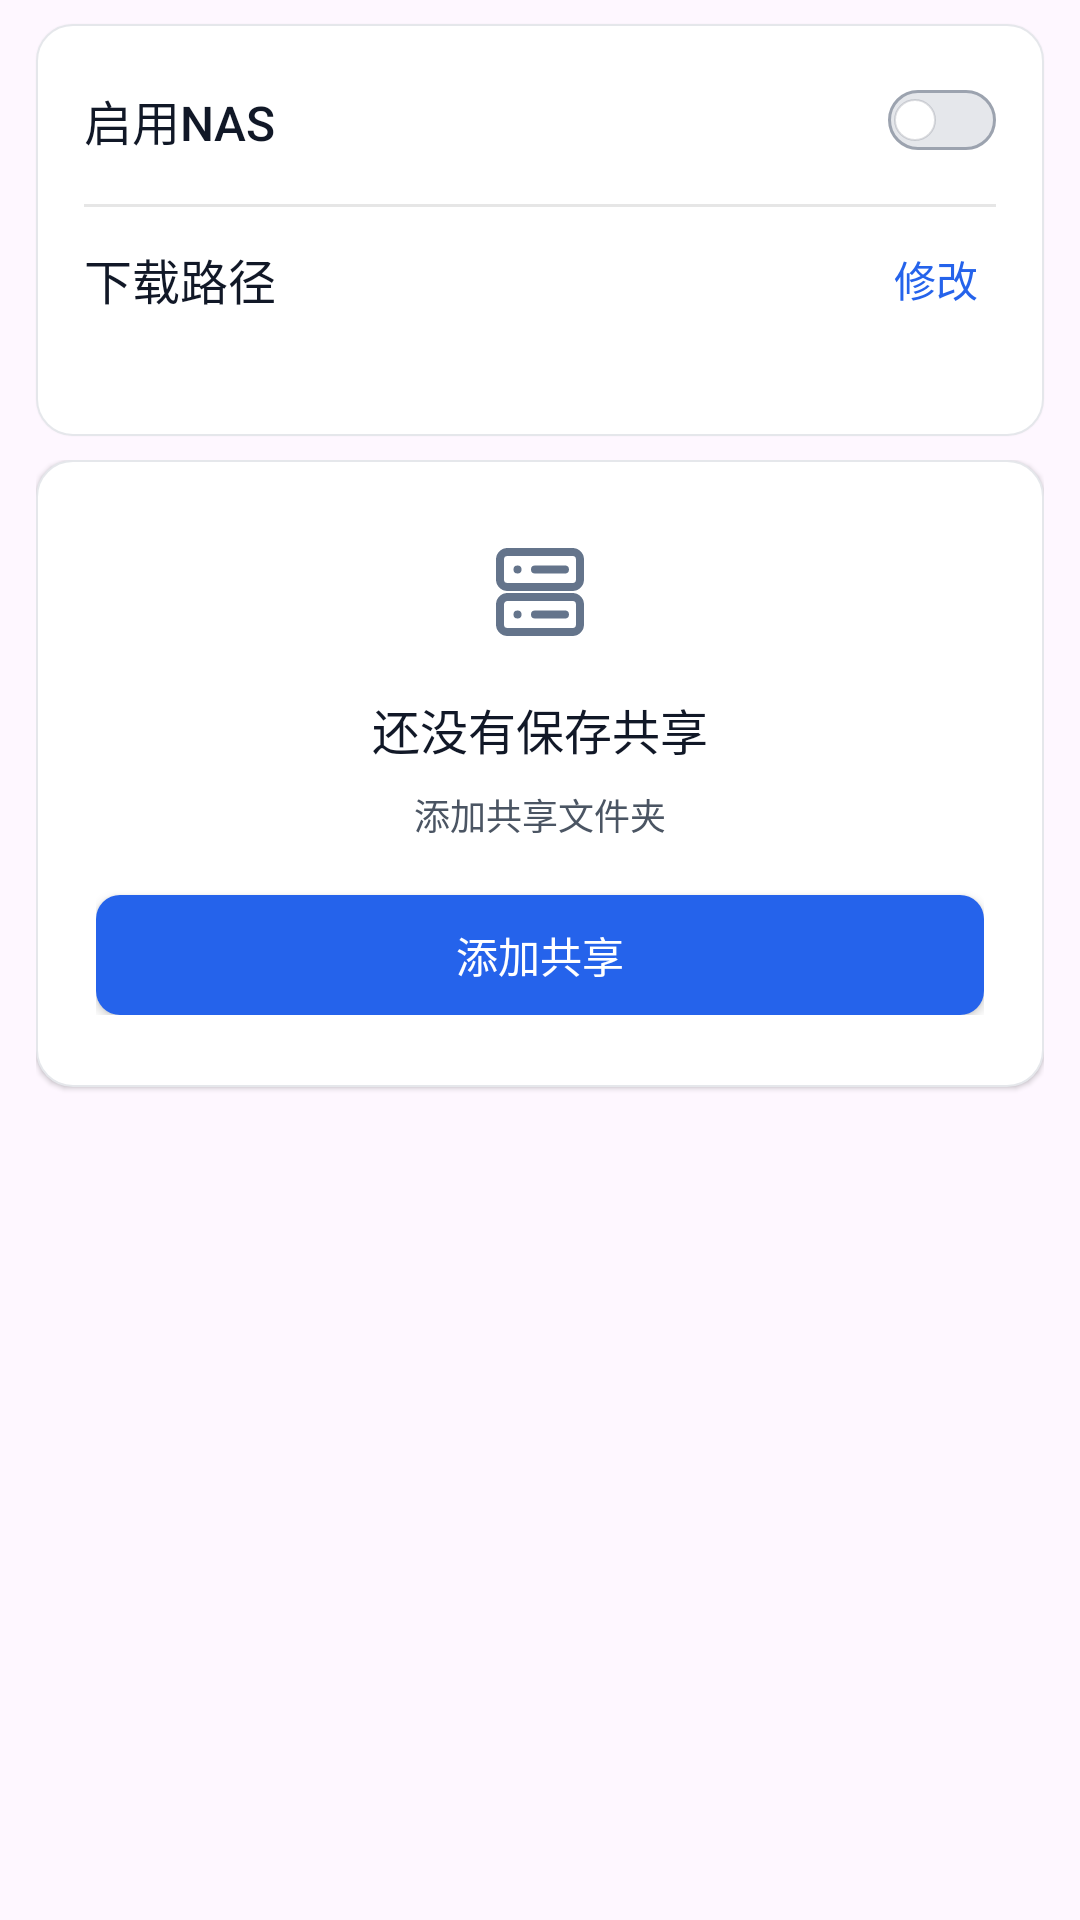

Icon bounding boxes for this 1080w x 1920h phone screenshot, format bbox=[x1, y1, x2, y2]:
nas server: bbox=[496, 548, 584, 636]
